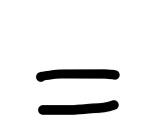eqv: (36, 69, 119, 114)
